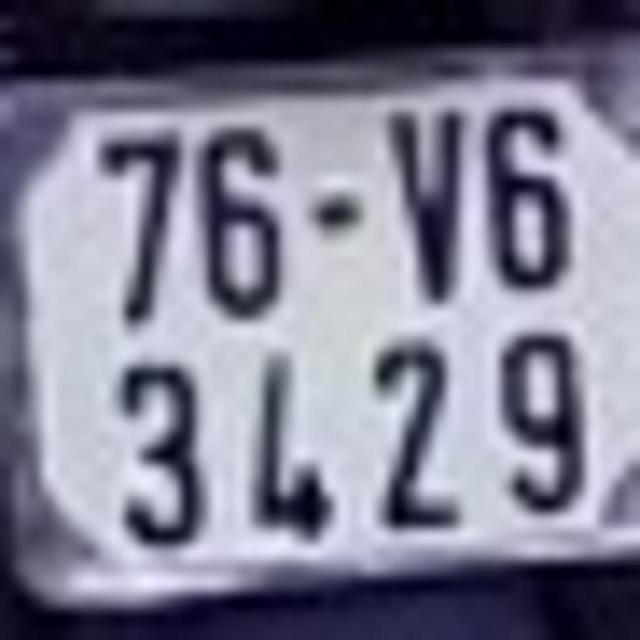2: (362, 323, 466, 536)
3: (109, 357, 213, 554)
4: (238, 344, 336, 545)
6: (194, 121, 289, 322), (484, 103, 576, 298)
7: (94, 129, 184, 329)
9: (488, 319, 588, 515)
V: (384, 104, 470, 312)
